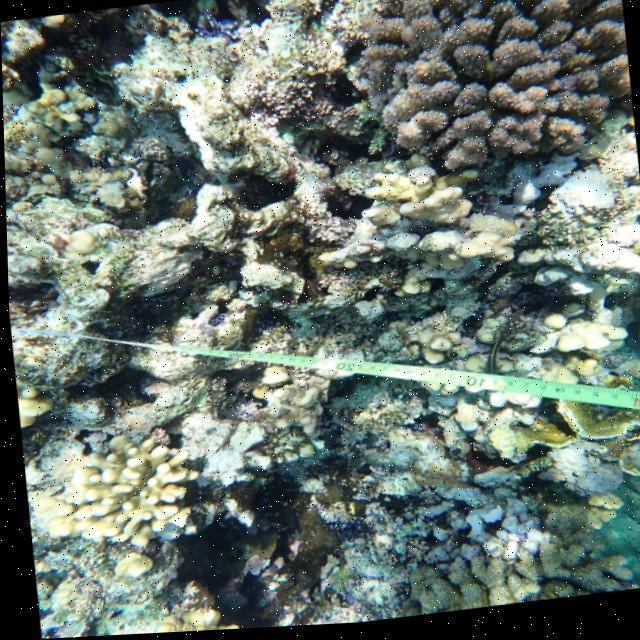Bleached Coral: (142, 383, 293, 512), (478, 141, 616, 243), (428, 470, 554, 577)
Dead Coral: (356, 0, 607, 158)
